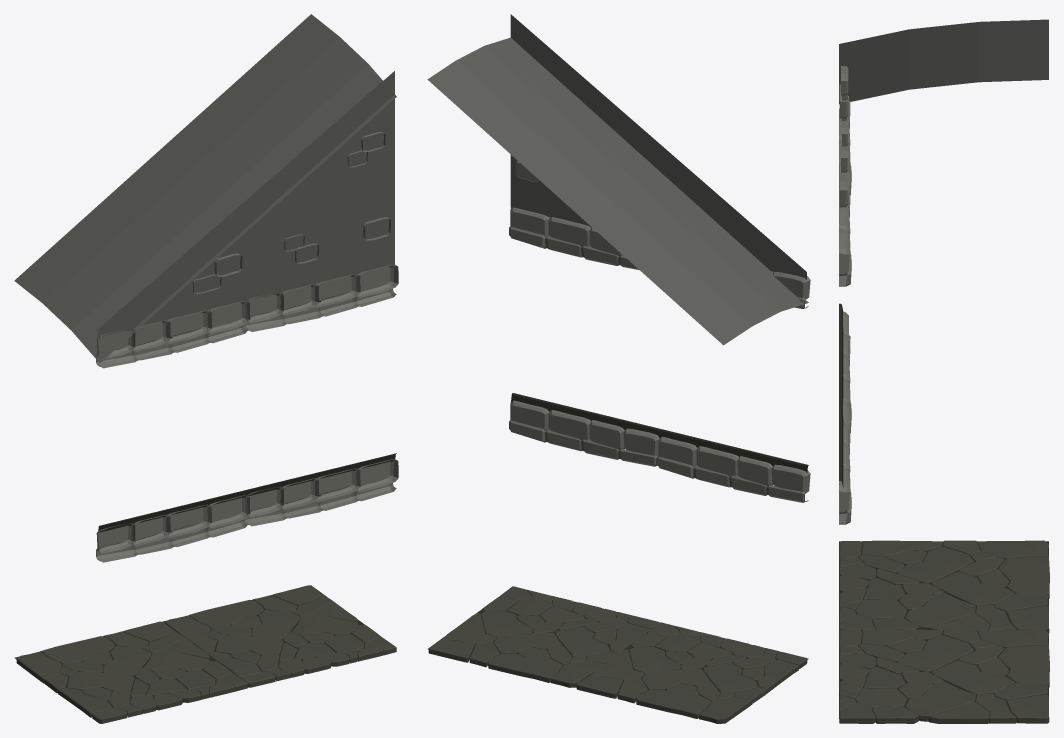
File: Dungeon_Hall_Wall_Stairs_Right.glb
The picture shows the model from 3 angles, left to right: view 1: azimuth 30°, elevation 25°; view 2: azimuth 150°, elevation 25°; view 3: azimuth 270°, elevation 25°; orthographic projection. The views are drawn at different scales.
Visible parts, largest first — view 1: Dungeon_Hall_Wall_Stairs_Right.001; view 2: Dungeon_Hall_Wall_Stairs_Right.001; view 3: Dungeon_Hall_Wall_Stairs_Right.001.
Boxes of the visible parts, left/top/right/bottom form: Dungeon_Hall_Wall_Stairs_Right.001: left=14, top=14, right=398, bottom=723; Dungeon_Hall_Wall_Stairs_Right.001: left=427, top=14, right=810, bottom=723; Dungeon_Hall_Wall_Stairs_Right.001: left=839, top=19, right=1049, bottom=723.
Size of the model in its own units: 8.1 by 14.93 by 4.02.
2 materials, 2 textured.
